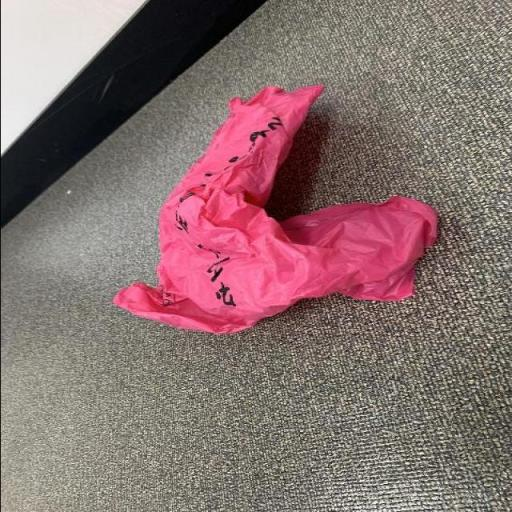plastic-bag: (109, 80, 444, 338)
